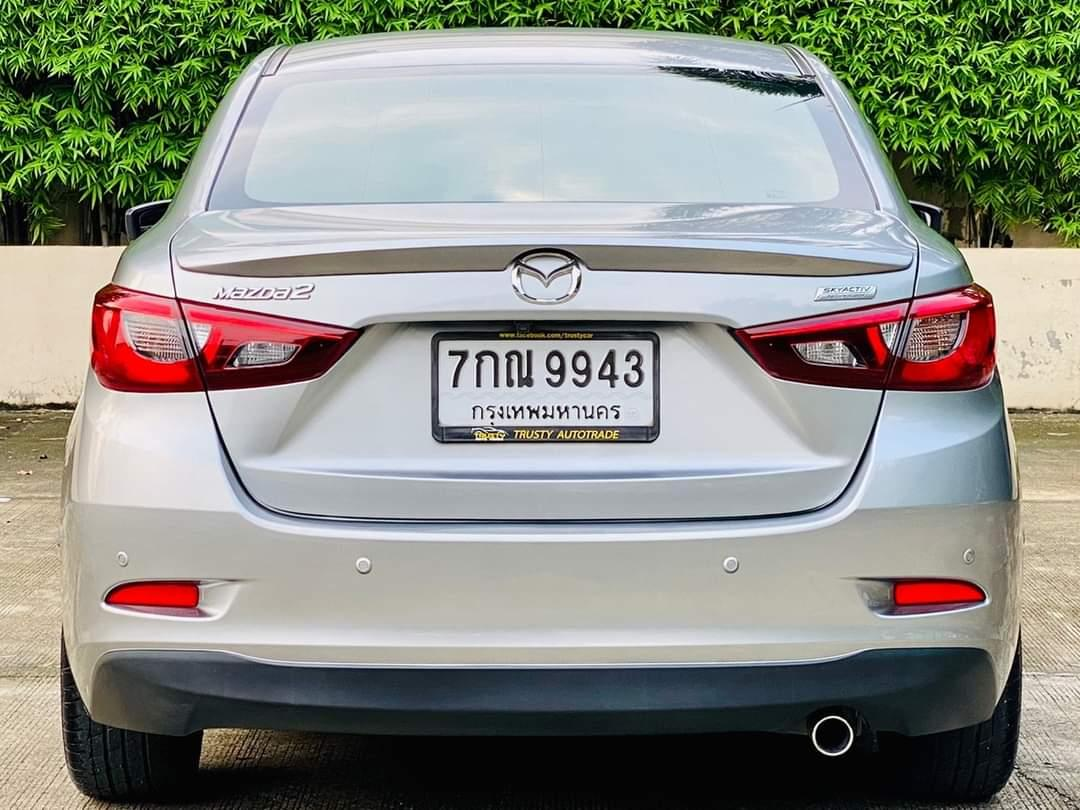license-plate: (433, 331, 659, 444)
